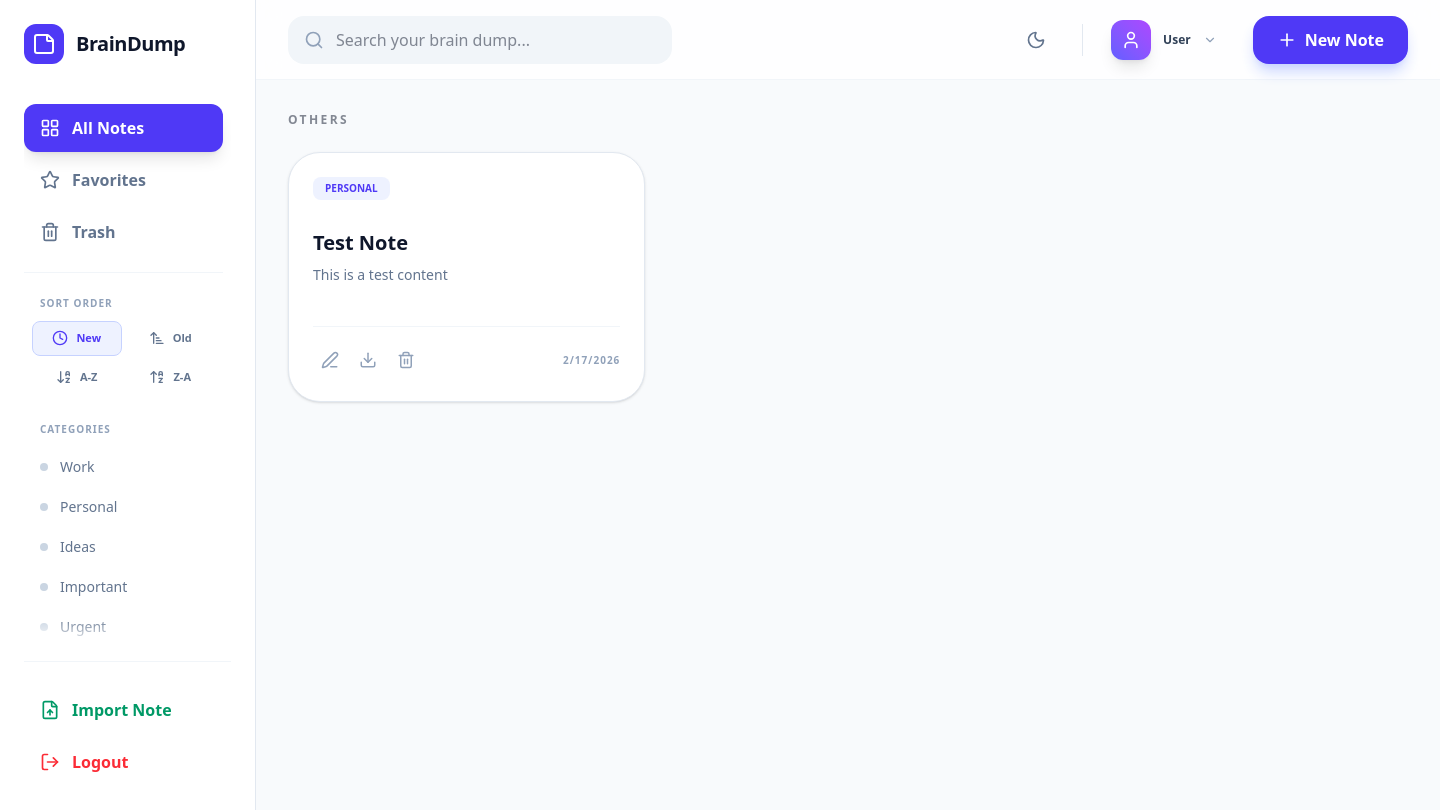
Test: Dashboard Component › Note Operations › deletes a note after confirmation
Expected: the heading "Test Note" is shown, 313,229 -> 408,256
// Now find the buttons
Step 1. Click the button with test id "delete-note-btn" → coordinates (406, 360), box 389,343 -> 423,377
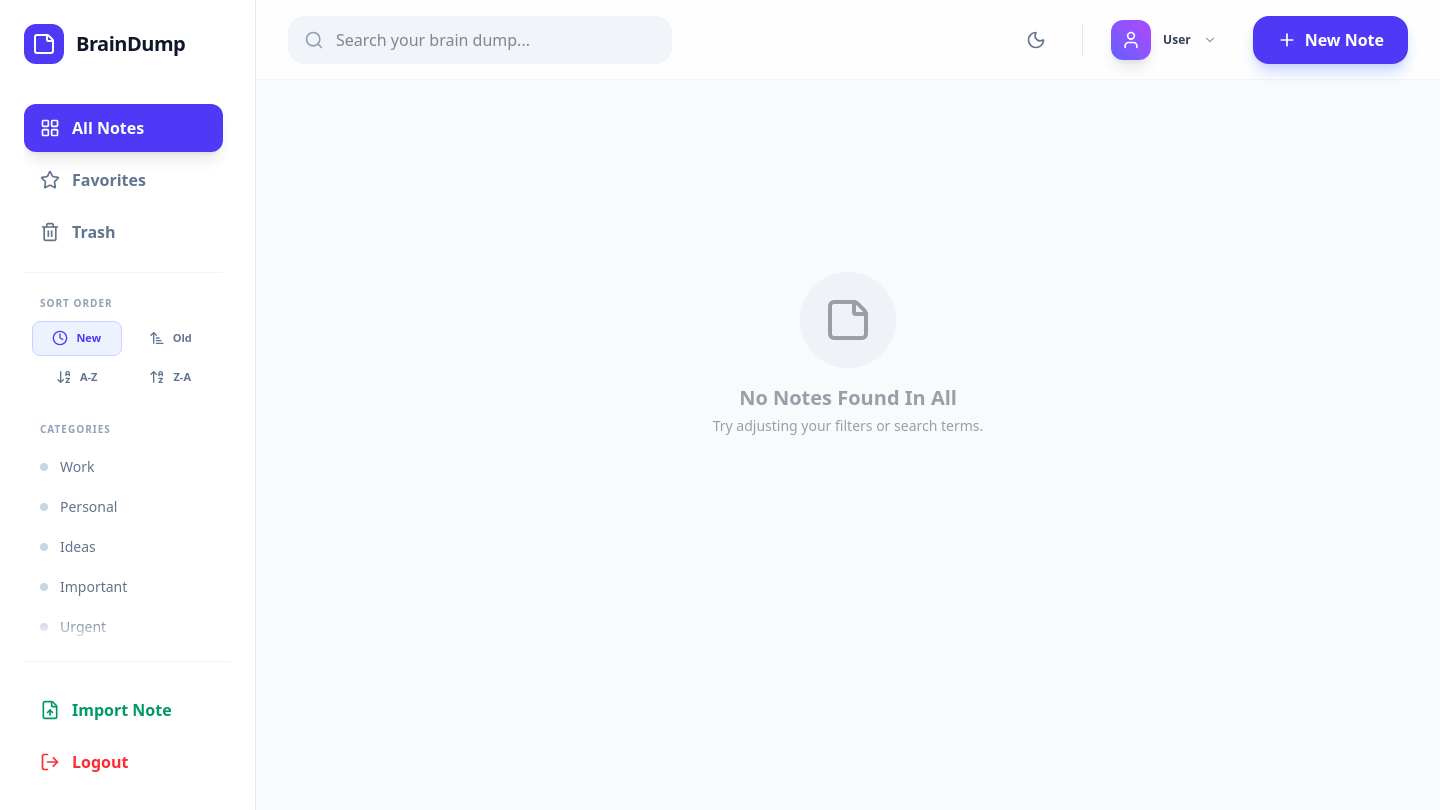
Result: the heading "Test Note" is gone
